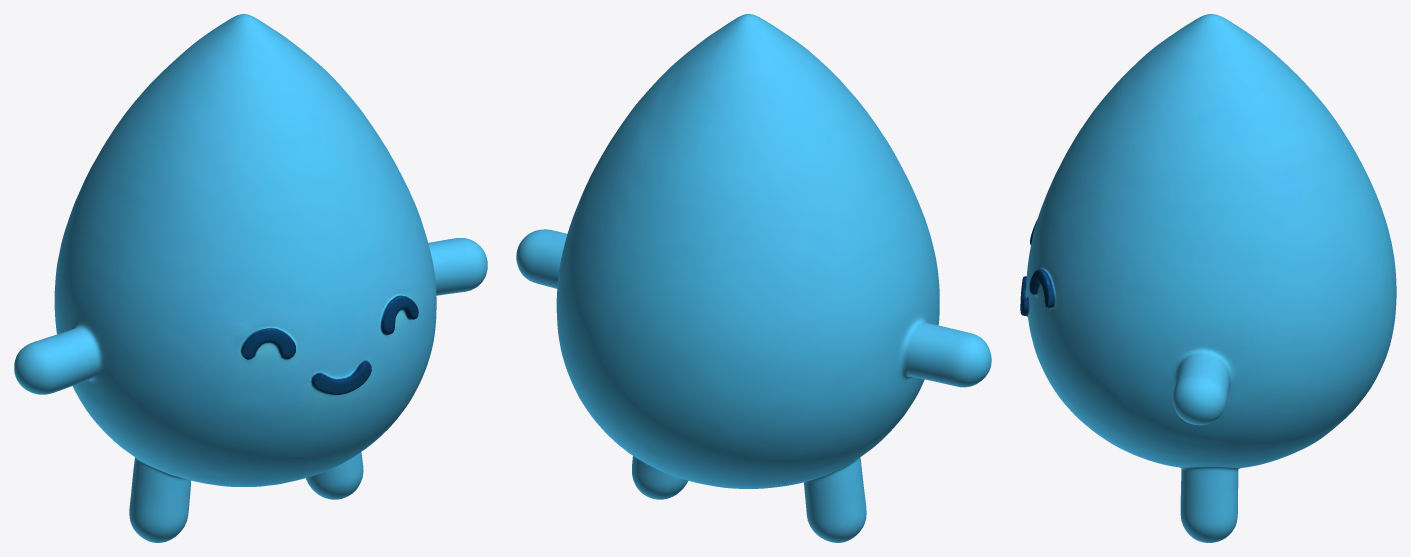
Rendered from walter-transformed.glb.
3 views of the same model, side by side, from view 1: azimuth 30°, elevation 25°; view 2: azimuth 150°, elevation 25°; view 3: azimuth 270°, elevation 25° (orthographic). The views are drawn at different scales.
Visible parts, largest first — view 1: walter; view 2: walter; view 3: walter.
Boxes of the visible parts, x1,y1,x2,y2 form: walter: (14, 14, 487, 542); walter: (516, 14, 991, 542); walter: (1020, 14, 1396, 542).
Size of the model in its own units: 1.71 by 1.75 by 1.24.
1 material, 1 textured.
